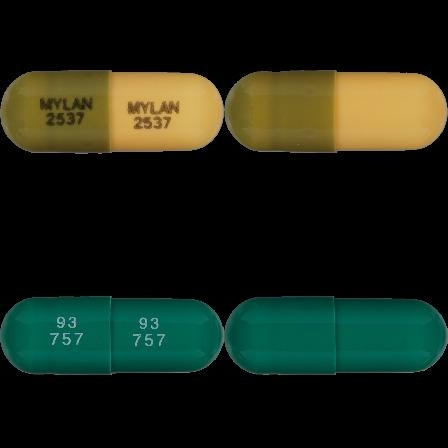49999-066: (0, 0, 224, 224)
